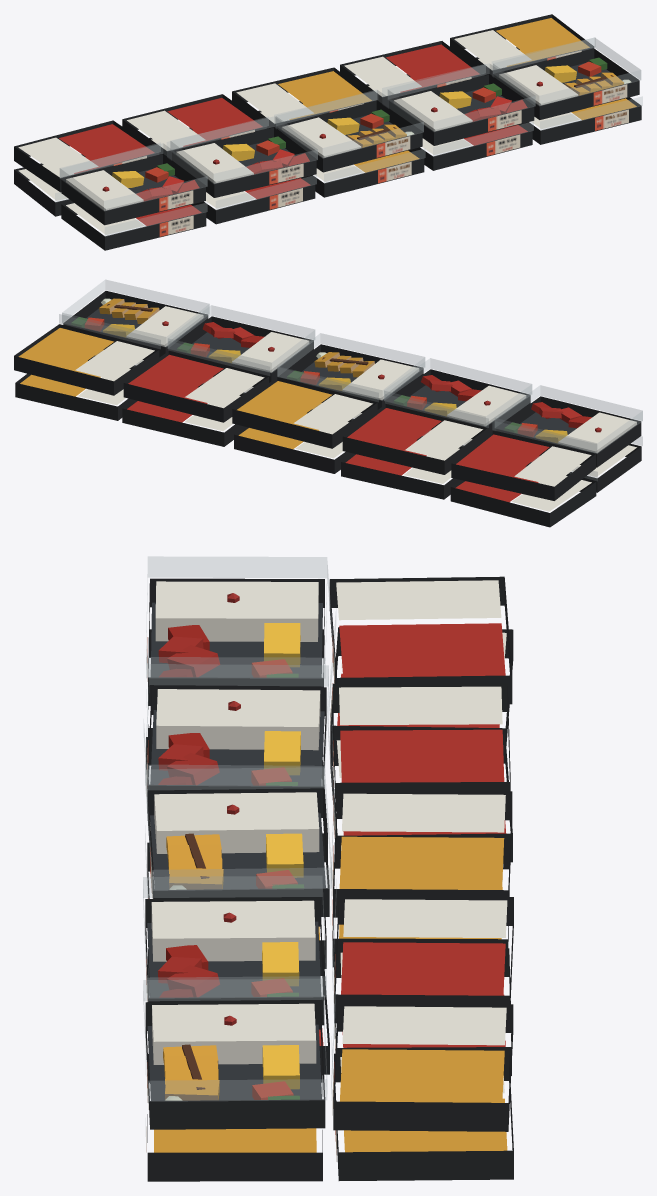
Rendered from SC_Prod_Row_LunchBox.gltf.
3 renders of one model, top to bottom at view 1: azimuth 30°, elevation 25°; view 2: azimuth 150°, elevation 25°; view 3: azimuth 270°, elevation 25°, orthographic. The views are drawn at different scales.
Parts seen in each view (by area): view 1: SC_Prod_Row_LunchBox; view 2: SC_Prod_Row_LunchBox; view 3: SC_Prod_Row_LunchBox.
Part boxes in pixels (box(x1,y1,x2,y2)): SC_Prod_Row_LunchBox: box(14, 14, 642, 250); SC_Prod_Row_LunchBox: box(14, 280, 642, 527); SC_Prod_Row_LunchBox: box(143, 556, 513, 1181).
Bounding box in the file's own units: 1.18 × 0.1045 × 0.3492.
3 materials, 3 textured.
